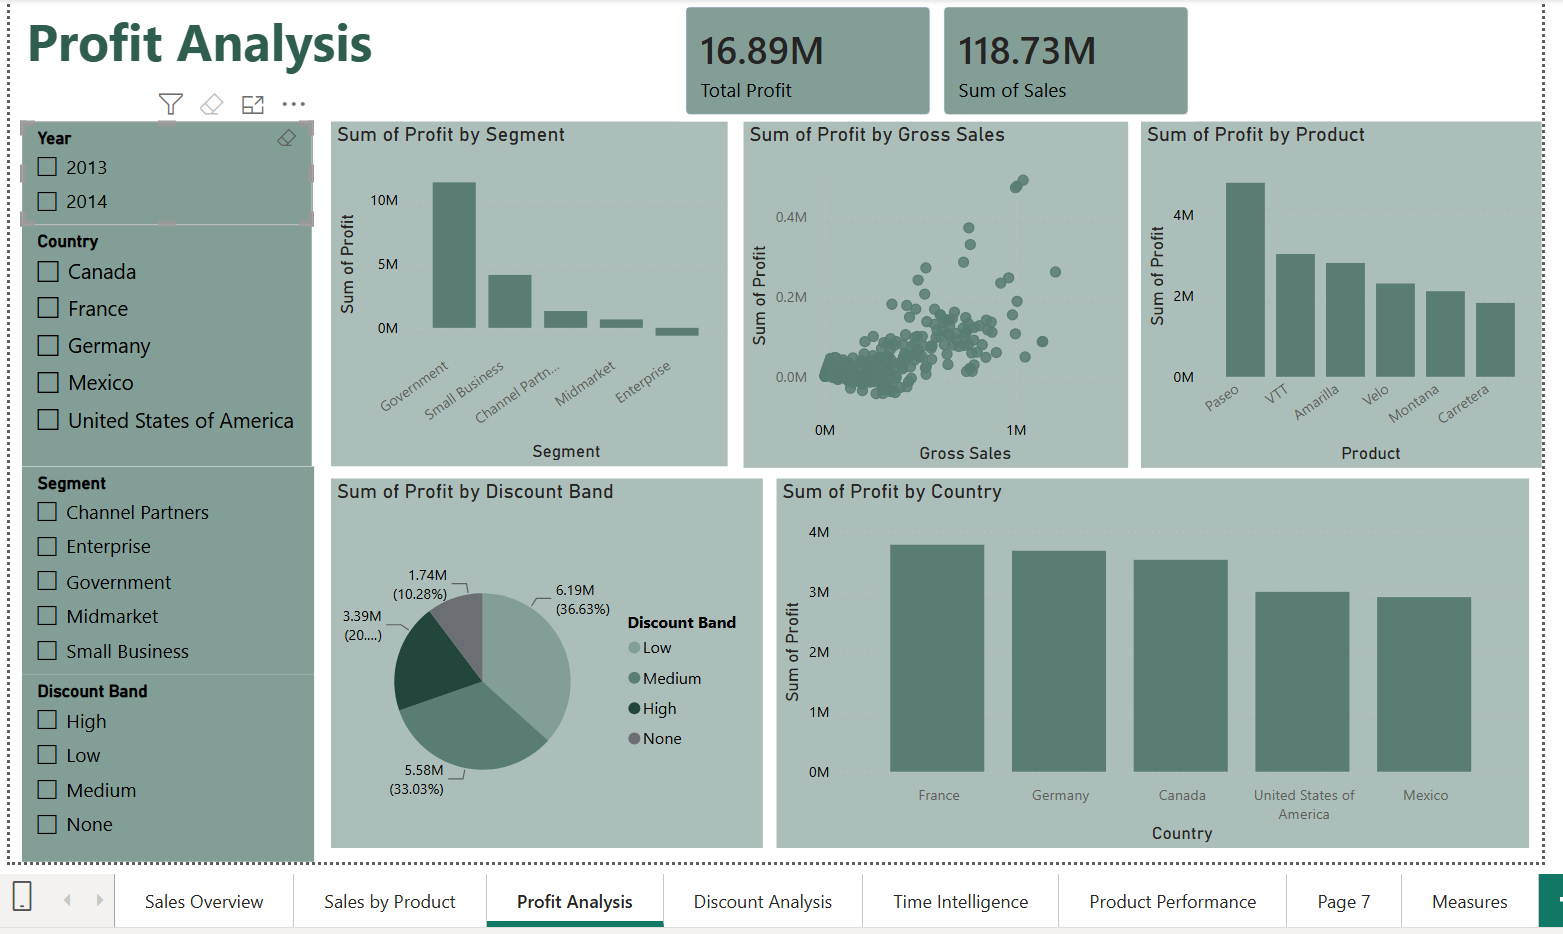

The dashboard page shown, as its layout file describes it:
{"tool":"powerbi","page":{"name":"Profit Analysis","canvas":[1280,720],"ordinal":2},"visuals":[{"type":"textbox","box":[9.1,0,343.7,87.8],"z":0},{"type":"columnChart","fields":{"Category":["Sheet1.Product"],"Y":["Sum(Sheet1.Profit)"]},"box":[944.9,101.5,334.6,289.2],"z":1000},{"type":"lineStackedColumnComboChart","fields":{"Category":["Sheet1.Country"],"Y":["Sum(Sheet1.Profit)"]},"box":[640.5,399.8,628.4,308.9],"z":2000},{"type":"clusteredColumnChart","fields":{"Category":["Sheet1.Segment"],"Y":["Sum(Sheet1.Profit)"]},"box":[268,101.5,331.6,287.7],"z":3000},{"type":"scatterChart","fields":{"X":["Sheet1.Gross Sales"],"Y":["Sum(Sheet1.Profit)"]},"box":[613.3,101.5,321,289.2],"z":4000},{"type":"pieChart","fields":{"Category":["Sheet1.Discount Band"],"Y":["Sum(Sheet1.Profit)"]},"box":[268,399.8,360.4,308.9],"z":5000},{"type":"cardVisual","fields":{"Data":["Sum(Sheet1.Sales)"]},"box":[773.8,0,215,101.5],"z":6000},{"type":"slicer","fields":{"Values":["Sheet1.Segment"]},"box":[10.6,389.2,243.8,174.1],"z":7000},{"type":"slicer","fields":{"Values":["Sheet1.Date.Variation.Date Hierarchy.Year"]},"box":[10.6,101.5,242.3,86.3],"z":8000},{"type":"slicer","fields":{"Values":["Sheet1.Country"]},"box":[10.6,187.8,242.3,201.4],"z":9000},{"type":"cardVisual","fields":{"Data":["Sum(Sheet1.Profit)"]},"box":[558.7,0,215,101.5],"z":10000},{"type":"slicer","fields":{"Values":["financials.Discount Band"]},"box":[10.6,563.3,243.8,156],"z":11000}]}

Visuals, with their boxes in screenshot pixels (x1, y1, x2, y2):
textbox: detection(15, 0, 429, 102)
columnChart - Sheet1.Product x Sum(Sheet1.Profit): detection(1142, 118, 1545, 466)
lineStackedColumnComboChart - Sheet1.Country x Sum(Sheet1.Profit): detection(775, 477, 1532, 849)
clusteredColumnChart - Sheet1.Segment x Sum(Sheet1.Profit): detection(327, 118, 726, 465)
scatterChart - Sheet1.Gross Sales x Sum(Sheet1.Profit): detection(743, 118, 1129, 466)
pieChart - Sheet1.Discount Band x Sum(Sheet1.Profit): detection(327, 477, 761, 849)
cardVisual - Sum(Sheet1.Sales): detection(936, 0, 1195, 118)
slicer - Sheet1.Segment: detection(17, 465, 310, 674)
slicer - Sheet1.Date.Variation.Date Hierarchy.Year: detection(17, 118, 309, 222)
slicer - Sheet1.Country: detection(17, 222, 309, 465)
cardVisual - Sum(Sheet1.Profit): detection(677, 0, 936, 118)
slicer - financials.Discount Band: detection(17, 674, 310, 862)
